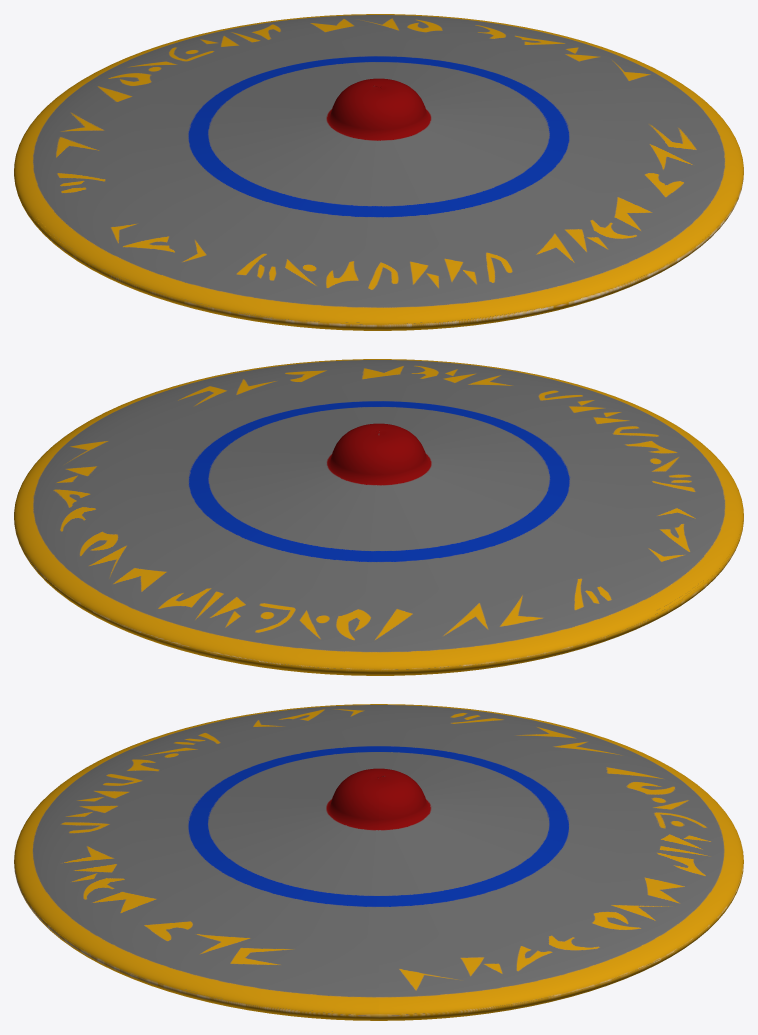
The model's file is UFO.obj.
The picture shows the model from 3 angles, top to bottom: view 1: azimuth 30°, elevation 25°; view 2: azimuth 150°, elevation 25°; view 3: azimuth 270°, elevation 25°; orthographic projection.
Visible parts, largest first — view 1: BezierCurve.002_Mesh.003; view 2: BezierCurve.002_Mesh.003; view 3: BezierCurve.002_Mesh.003.
Part boxes in pixels (left/top/right/bottom): BezierCurve.002_Mesh.003: left=14, top=14, right=743, bottom=330; BezierCurve.002_Mesh.003: left=14, top=359, right=743, bottom=675; BezierCurve.002_Mesh.003: left=14, top=704, right=743, bottom=1020.
Bounding box in the file's own units: 2.48 × 0.6492 × 2.48.
Materials: 2 (2 with a texture image).
